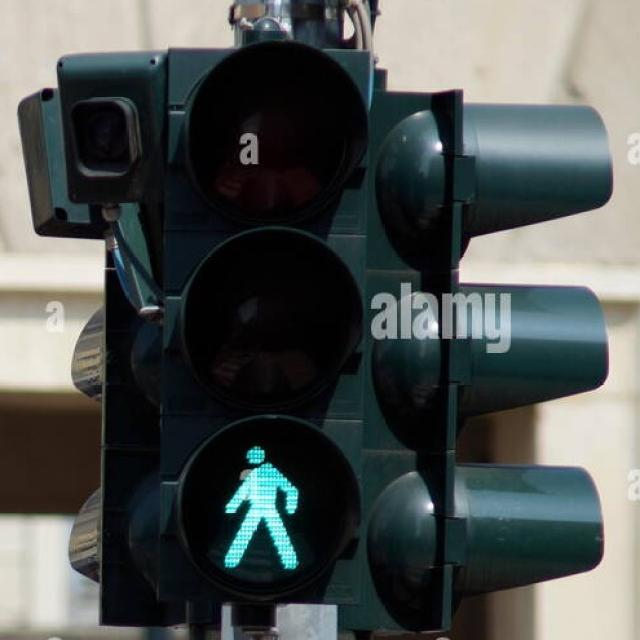green_light: (205, 430, 306, 578)
